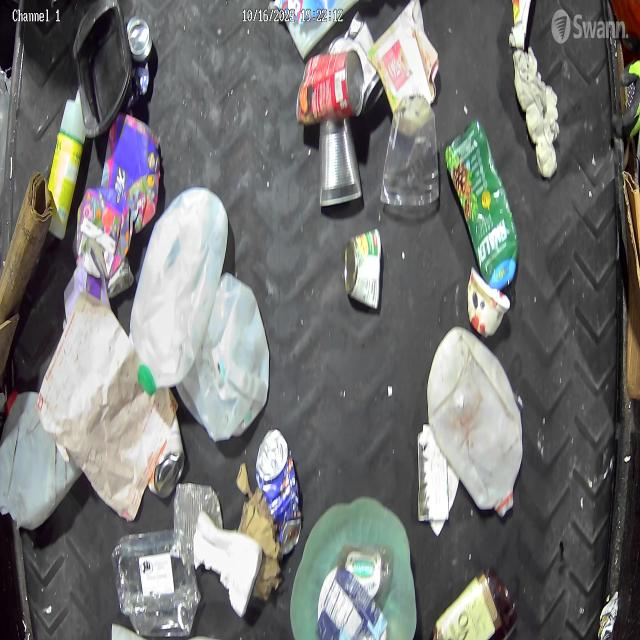can: (255, 425, 303, 557), (295, 47, 366, 126), (318, 112, 363, 211), (173, 482, 224, 569), (343, 226, 383, 314), (146, 417, 186, 500), (127, 13, 155, 108)
milk_jug: (129, 185, 229, 395), (426, 323, 524, 520), (174, 268, 271, 444), (0, 388, 84, 533)
